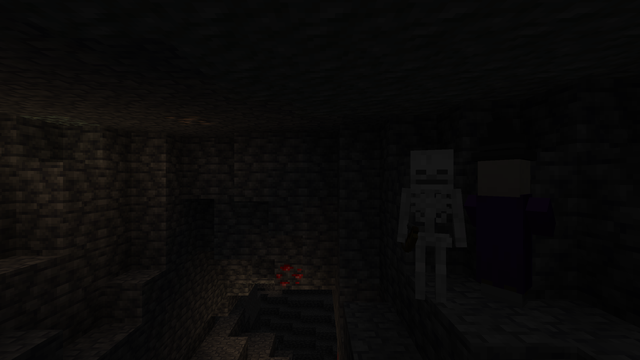sorcieres: (474, 153, 543, 309)
squelettes: (401, 150, 464, 309)
